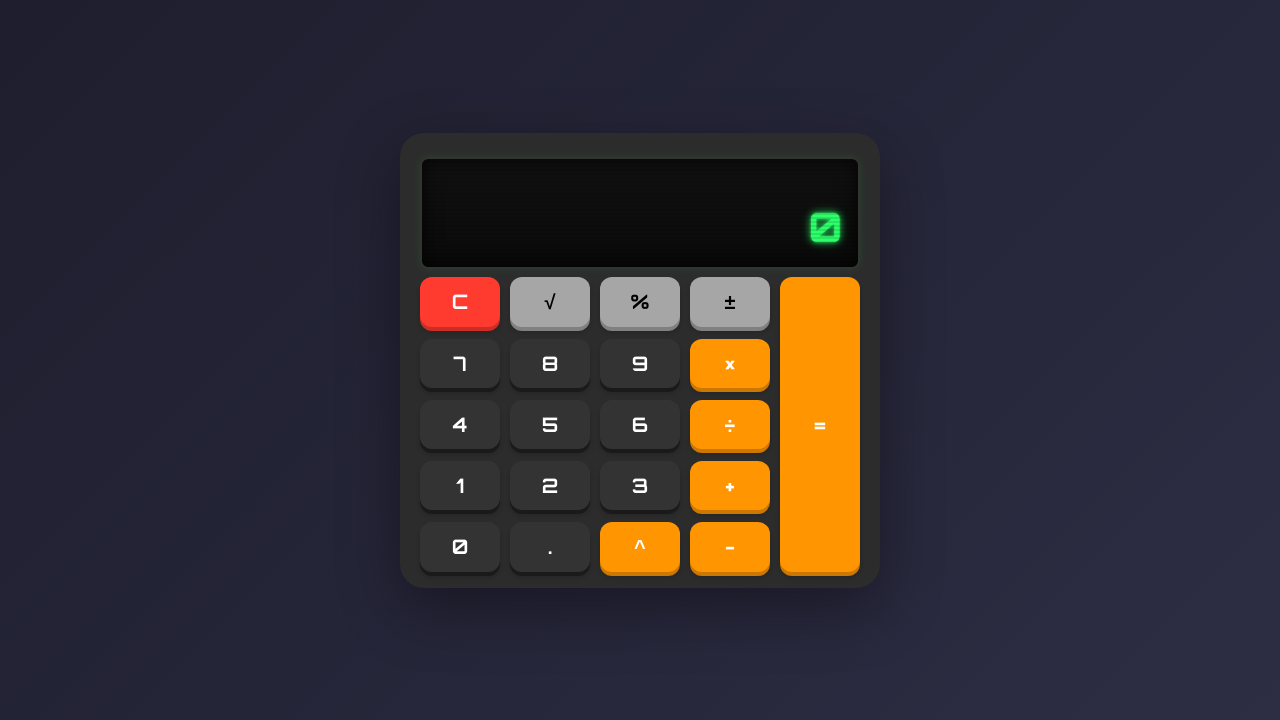
Test: App › performs a full calculation through the UI
Click the button "5" at (550, 424), box [510, 400, 590, 448]
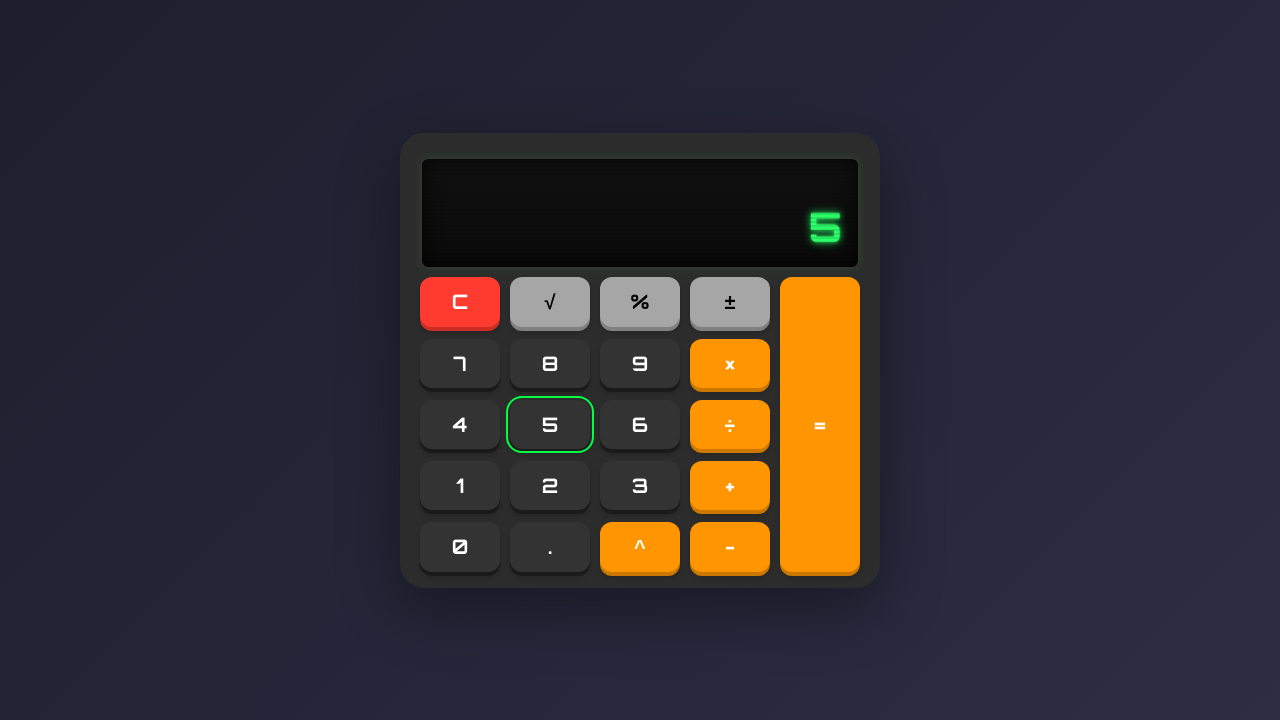
Click the button "+" at (730, 485), box [690, 460, 770, 510]
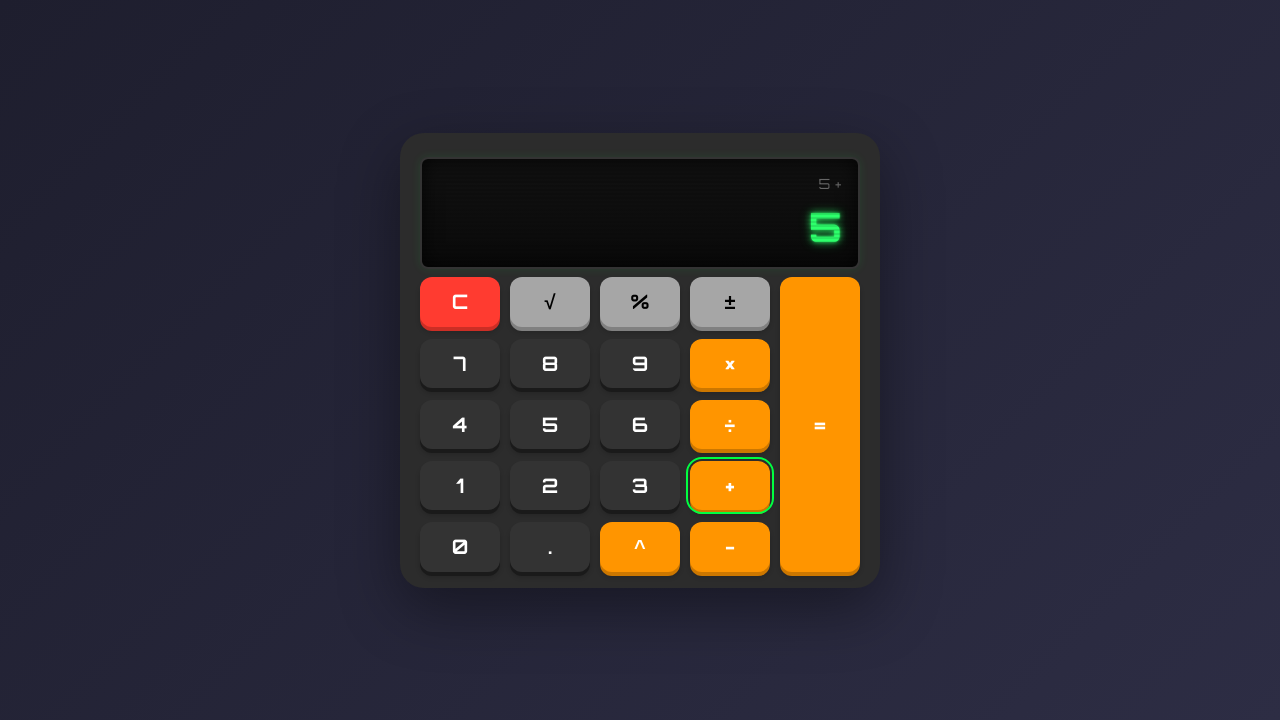
Click the button "2" at (550, 485), box [510, 460, 590, 510]
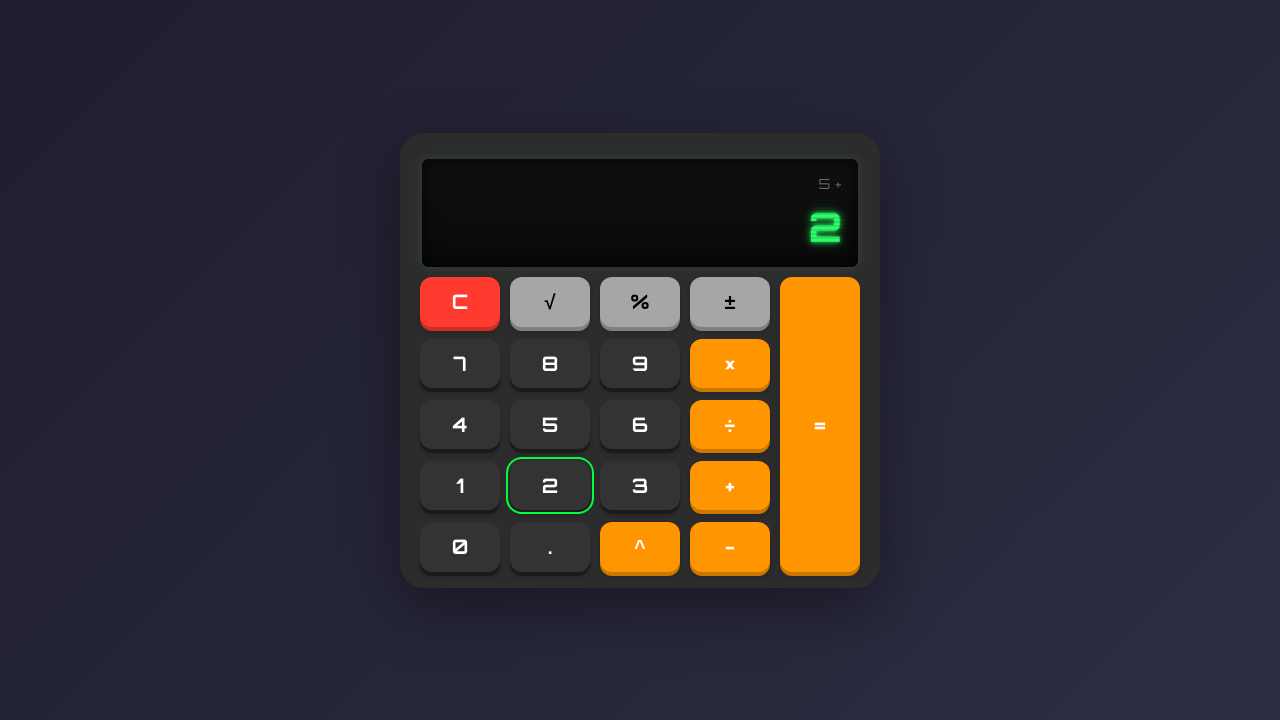
Click the button "=" at (820, 424), box [780, 276, 860, 572]
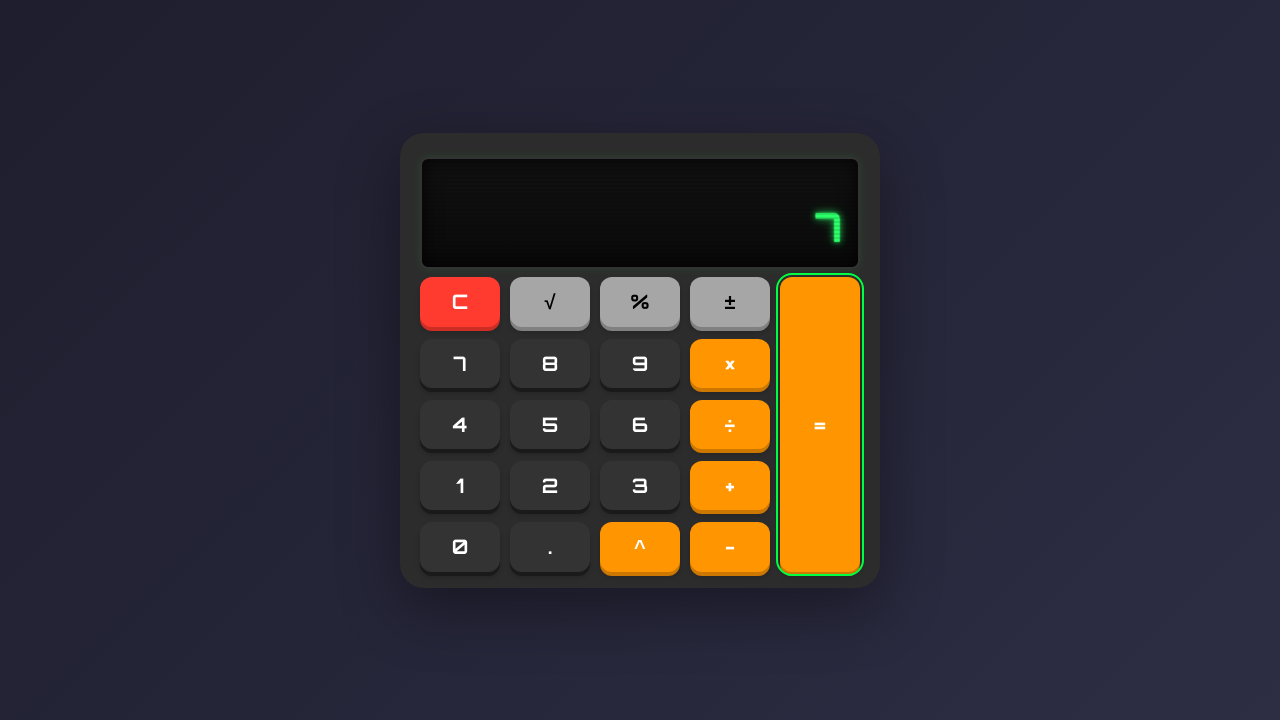
Expected: the element named "Calculator display" reads "7", [816, 202, 842, 252]
